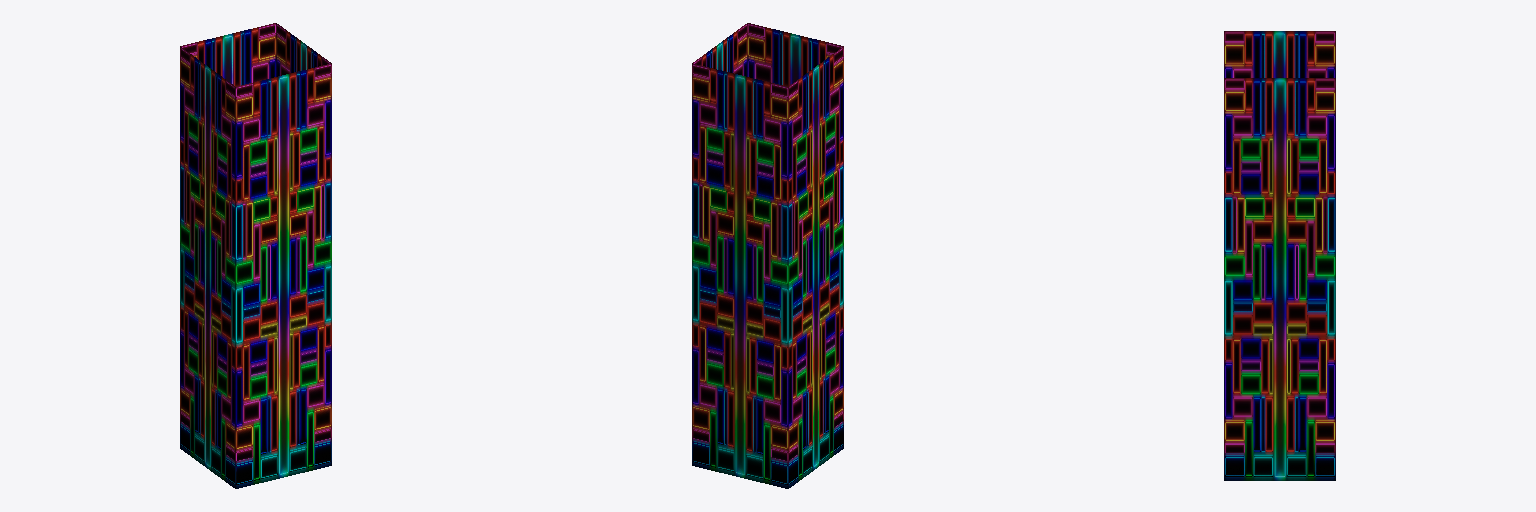
3 views of the same model, side by side, from view 1: azimuth 30°, elevation 25°; view 2: azimuth 150°, elevation 25°; view 3: azimuth 270°, elevation 25° (orthographic).
Visible parts, largest first — view 1: Wall; view 2: Wall; view 3: Wall.
Part boxes in pixels (x1,y1,x2,y2): Wall: (180, 23, 331, 488); Wall: (692, 23, 843, 488); Wall: (1224, 31, 1335, 480).
Size of the model in its own units: 1 by 4 by 1.
Materials: 1 (1 with a texture image).